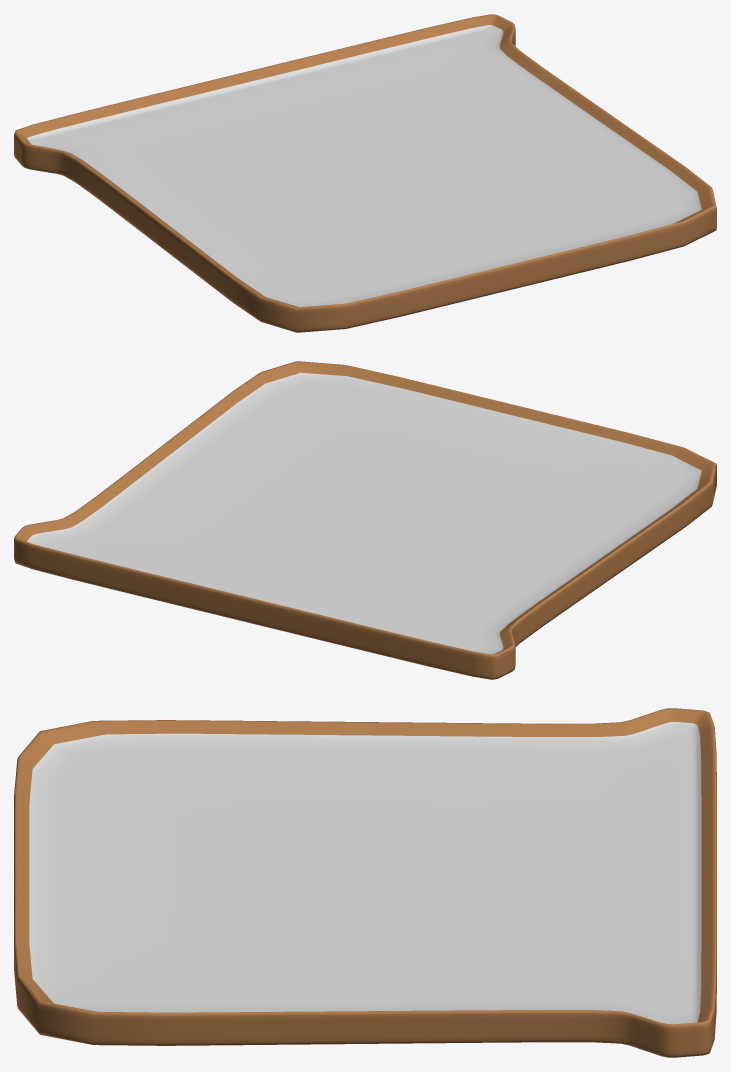
Rendered from Bread-Fungus.fbx.
3 renders of one model, top to bottom at view 1: azimuth 30°, elevation 25°; view 2: azimuth 150°, elevation 25°; view 3: azimuth 270°, elevation 25°, orthographic. The views are drawn at different scales.
Visible parts, largest first — view 1: Plane; view 2: Plane; view 3: Plane.
Boxes of the visible parts, left/top/right/bottom form: Plane: left=14, top=14, right=716, bottom=332; Plane: left=14, top=361, right=716, bottom=679; Plane: left=14, top=708, right=716, bottom=1057.
Bounding box in the file's own units: 5.35 × 0.2613 × 5.
